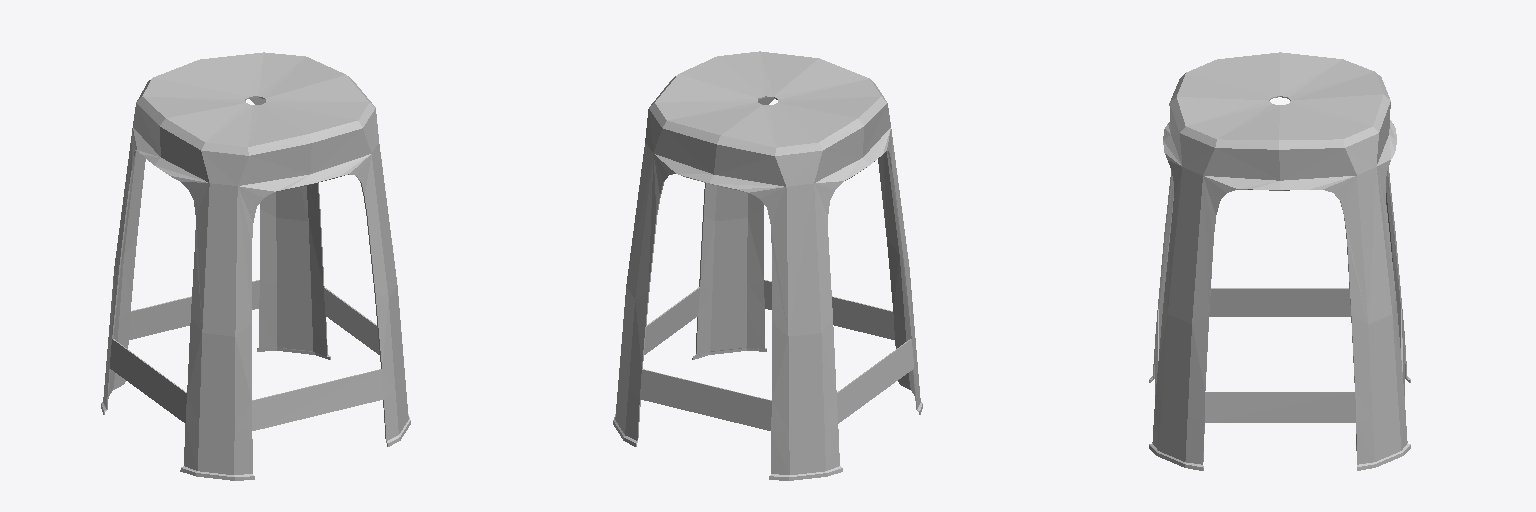
Rendered from B_Daily_R_Vr_N_Chair_0011.obj.
The picture shows the model from 3 angles: view 1: azimuth 30°, elevation 25°; view 2: azimuth 150°, elevation 25°; view 3: azimuth 270°, elevation 25°; orthographic projection.
Visible parts, largest first — view 1: B_Chair_0_067; view 2: B_Chair_0_067; view 3: B_Chair_0_067.
Boxes of the visible parts, box(x1,y1,x2,y2) form: B_Chair_0_067: box(101, 52, 410, 480); B_Chair_0_067: box(613, 51, 922, 480); B_Chair_0_067: box(1149, 52, 1410, 470).
Bounding box in the file's own units: 13 × 17.4 × 12.97.